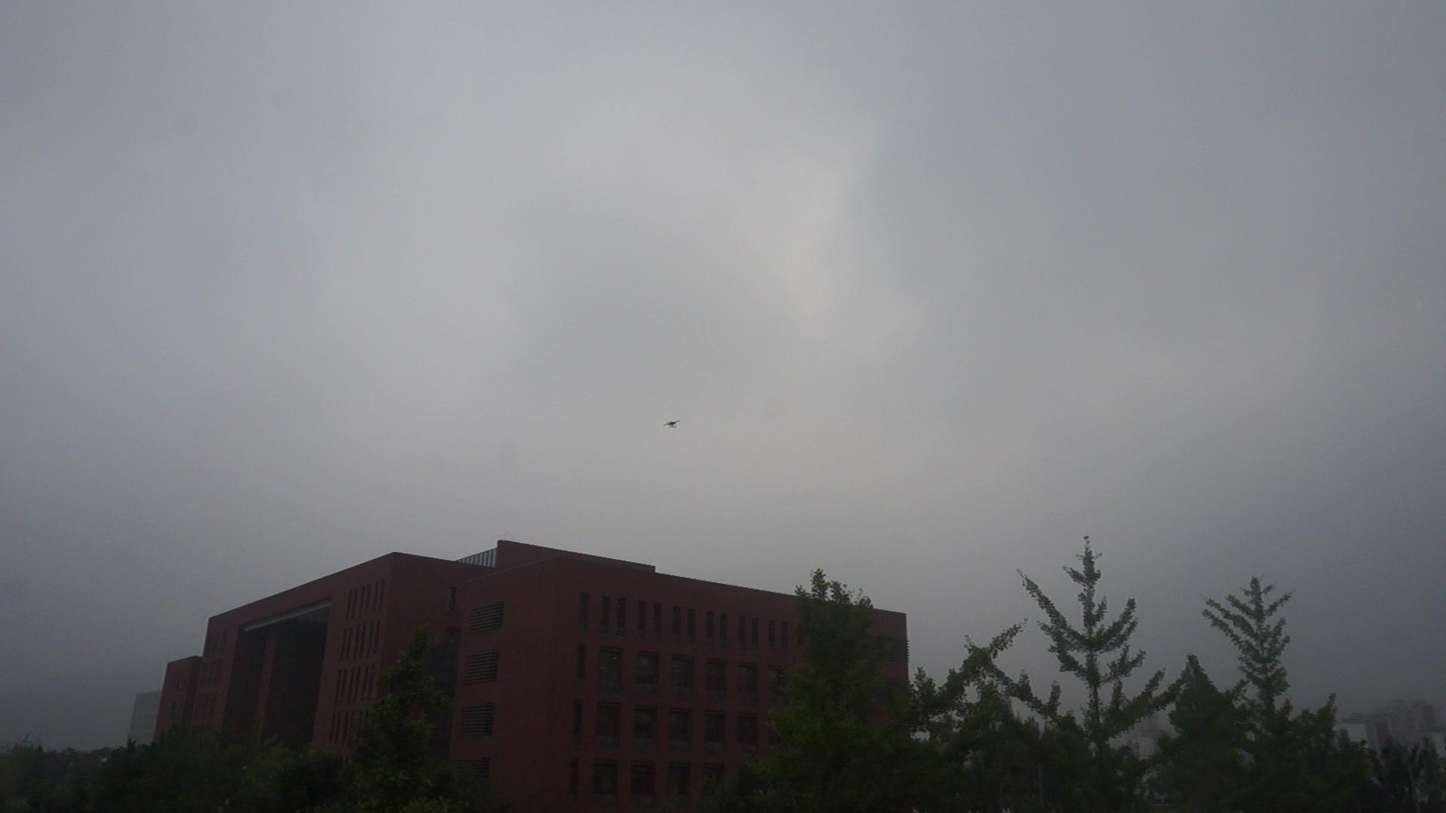UAV: (663, 420, 682, 429)
